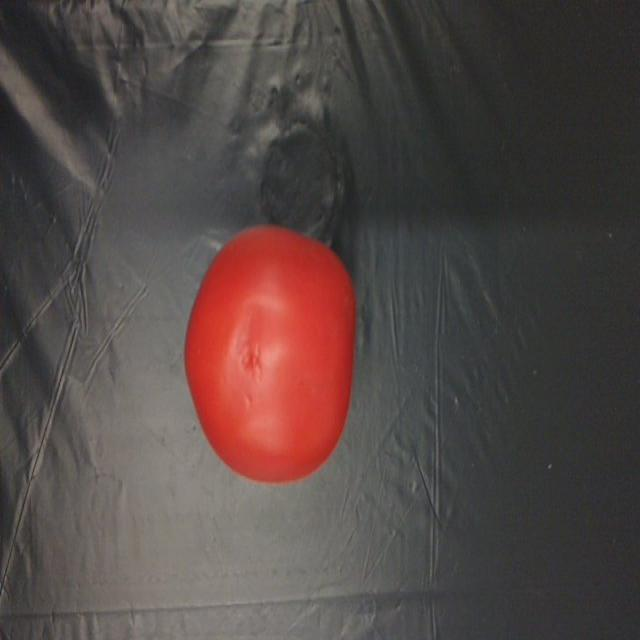kirmizi: (154, 200, 367, 490)
